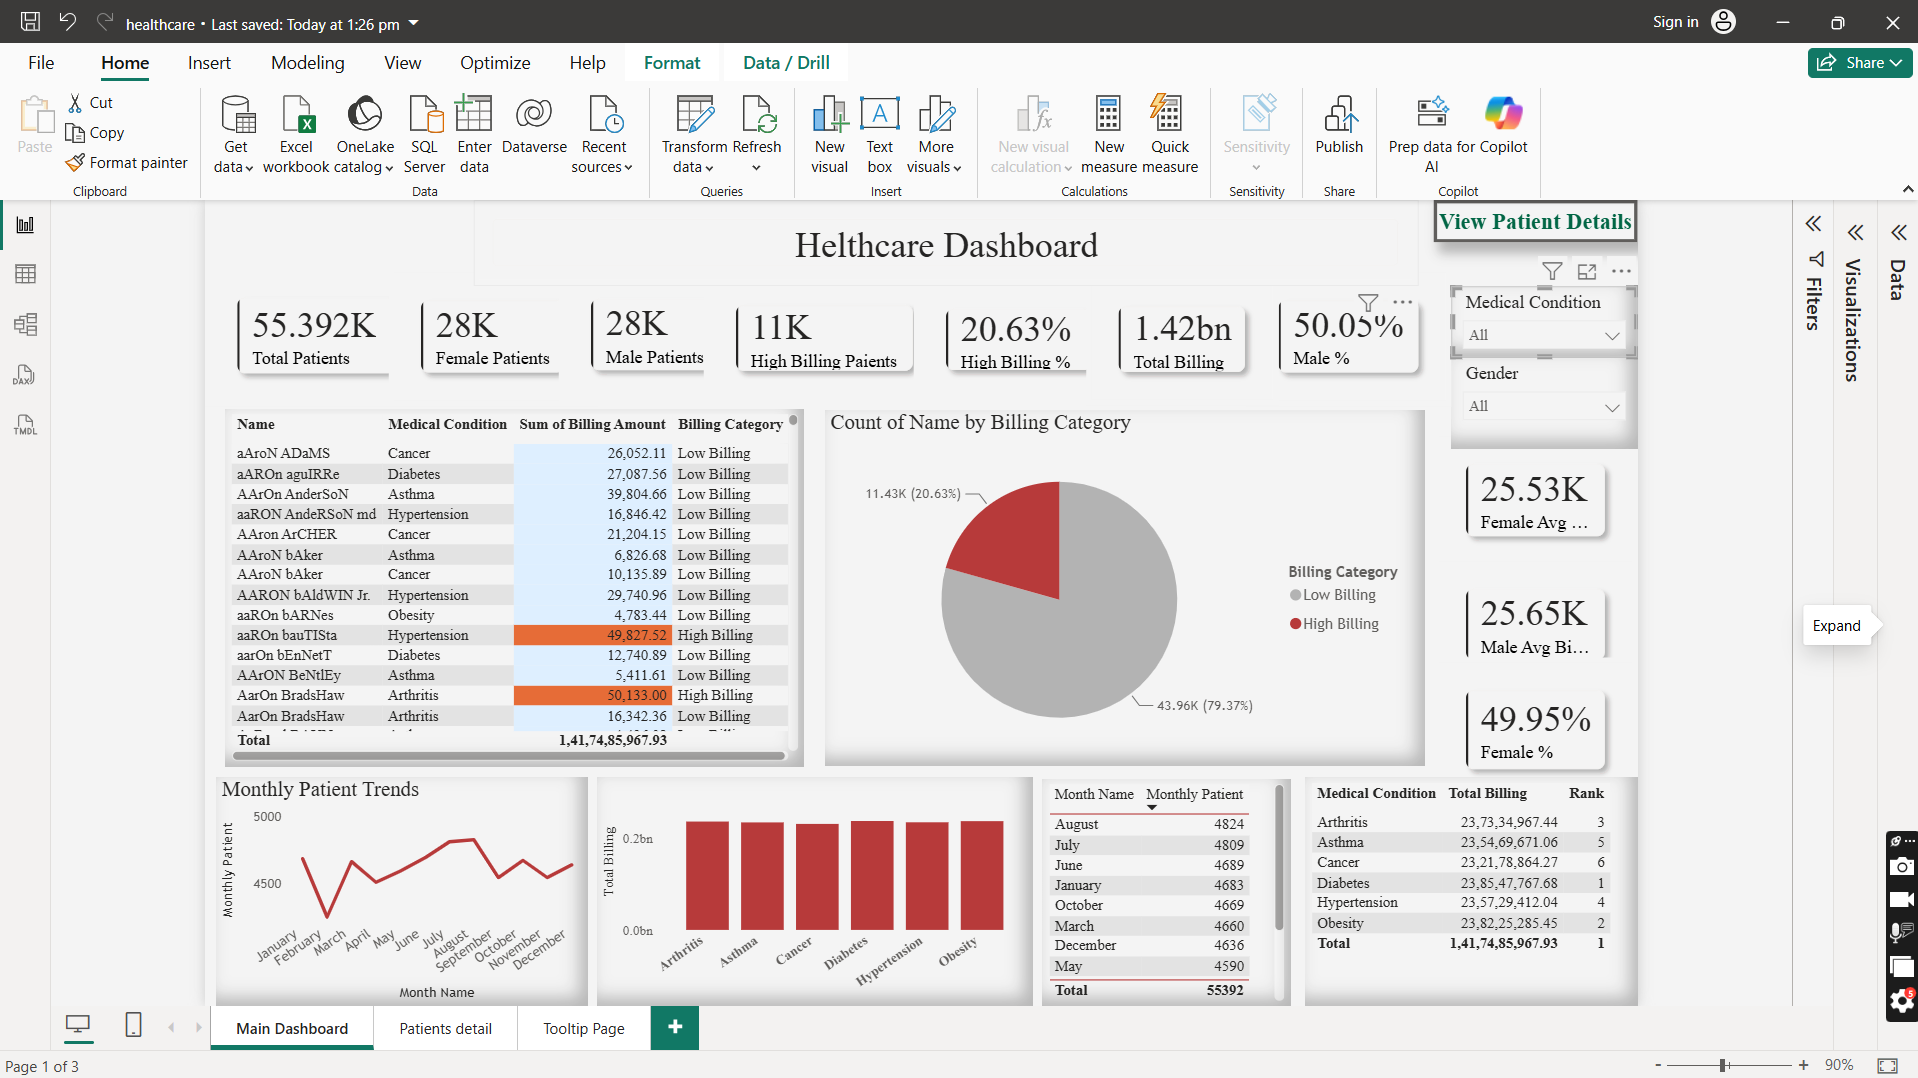

Layout of this report page (visuals, bound fields, positions):
{"tool":"powerbi","page":{"name":"Main Dashboard","canvas":[1280,720],"ordinal":0},"visuals":[{"type":"cardVisual","fields":{"Data":["healthcare_dataset.Total Patients"]},"box":[0,58.1,199.9,126.2],"z":0},{"type":"cardVisual","fields":{"Data":["healthcare_dataset.Female Patients"]},"box":[164.1,60.3,186.5,123.9],"z":1000},{"type":"cardVisual","fields":{"Data":["healthcare_dataset.Male Patients"]},"box":[316,59.2,176.4,122.8],"z":2000},{"type":"slicer","fields":{"Values":["healthcare_dataset.Medical Condition"]},"box":[1113.3,77,166.4,63.6],"z":3000},{"type":"cardVisual","fields":{"Data":["healthcare_dataset.High Billing Paients"]},"box":[445.5,64.8,216.6,117.2],"z":4000},{"type":"cardVisual","fields":{"Data":["healthcare_dataset.Female Avg Billing"]},"box":[1097.3,207,182.7,123.6],"z":5000},{"type":"cardVisual","fields":{"Data":["healthcare_dataset.Male Avg Billing"]},"box":[1097.6,318.2,182,122.8],"z":6000},{"type":"slicer","fields":{"Values":["healthcare_dataset.Gender"]},"box":[1113.3,140.7,166.4,81.5],"z":7000},{"type":"cardVisual","fields":{"Data":["healthcare_dataset.high Billing %"]},"box":[633.1,68.1,188.7,113.9],"z":8000},{"type":"cardVisual","fields":{"Data":["healthcare_dataset.Female  %"]},"box":[1097.6,408.7,182,129.5],"z":9000},{"type":"cardVisual","fields":{"Data":["healthcare_dataset.Male %"]},"box":[930.2,60.3,183.1,123.9],"z":10000},{"type":"tableEx","fields":{"Values":["healthcare_dataset.Name","healthcare_dataset.Medical Condition","Sum(healthcare_dataset.Billing Amount)","healthcare_dataset.Billing Category"]},"box":[17.8,186.6,516.8,319.7],"z":11000},{"type":"pieChart","fields":{"Category":["healthcare_dataset.Billing Category"],"Y":["CountNonNull(healthcare_dataset.Name)"]},"box":[553.5,187.2,536,318.6],"z":12000},{"type":"actionButton","box":[1097.6,0,182,38],"z":13000},{"type":"clusteredColumnChart","fields":{"Category":["healthcare_dataset.Medical Condition"],"Y":["healthcare_dataset.Total Billing"]},"box":[350.6,515.9,388.6,204.3],"z":14000},{"type":"cardVisual","fields":{"Data":["healthcare_dataset.Total Billing"]},"box":[787.2,65.9,172,117.2],"z":15000},{"type":"tableEx","fields":{"Values":["healthcare_dataset.Month Name","healthcare_dataset.Monthly Patient"]},"box":[748.5,516.8,221.2,203.4],"z":16000},{"type":"lineChart","title":"Monthly Patient Trends","fields":{"Y":["healthcare_dataset.Monthly Patient"],"Category":["healthcare_dataset.Month Name"]},"box":[9.5,516.4,331.6,203.8],"z":17000},{"type":"tableEx","fields":{"Values":["healthcare_dataset.Medical Condition","healthcare_dataset.Total Billing","healthcare_dataset.Rank"]},"box":[982.2,516.4,297.8,203.8],"z":18000},{"type":"cardVisual","fields":{"Data":["healthcare_dataset.Dynamic Tittle"]},"box":[240.4,0,843.5,76.7],"z":19000}]}

Visuals, with their boxes on the page's 1280x720 design canvas (x1, y1, x2, y2). These are canvas units, not pixel positions in the 1918x1078 screenshot, which may show the page scaled, cropped or inside an application window:
cardVisual - healthcare_dataset.Total Patients: 0:58:200:184
cardVisual - healthcare_dataset.Female Patients: 164:60:351:184
cardVisual - healthcare_dataset.Male Patients: 316:59:492:182
slicer - healthcare_dataset.Medical Condition: 1113:77:1280:141
cardVisual - healthcare_dataset.High Billing Paients: 446:65:662:182
cardVisual - healthcare_dataset.Female Avg Billing: 1097:207:1280:331
cardVisual - healthcare_dataset.Male Avg Billing: 1098:318:1280:441
slicer - healthcare_dataset.Gender: 1113:141:1280:222
cardVisual - healthcare_dataset.high Billing %: 633:68:822:182
cardVisual - healthcare_dataset.Female  %: 1098:409:1280:538
cardVisual - healthcare_dataset.Male %: 930:60:1113:184
tableEx - healthcare_dataset.Name x healthcare_dataset.Medical Condition: 18:187:535:506
pieChart - healthcare_dataset.Billing Category x CountNonNull(healthcare_dataset.Name): 554:187:1090:506
actionButton: 1098:0:1280:38
clusteredColumnChart - healthcare_dataset.Medical Condition x healthcare_dataset.Total Billing: 351:516:739:720
cardVisual - healthcare_dataset.Total Billing: 787:66:959:183
tableEx - healthcare_dataset.Month Name x healthcare_dataset.Monthly Patient: 748:517:970:720
"Monthly Patient Trends" lineChart: 10:516:341:720
tableEx - healthcare_dataset.Medical Condition x healthcare_dataset.Total Billing: 982:516:1280:720
cardVisual - healthcare_dataset.Dynamic Tittle: 240:0:1084:77
